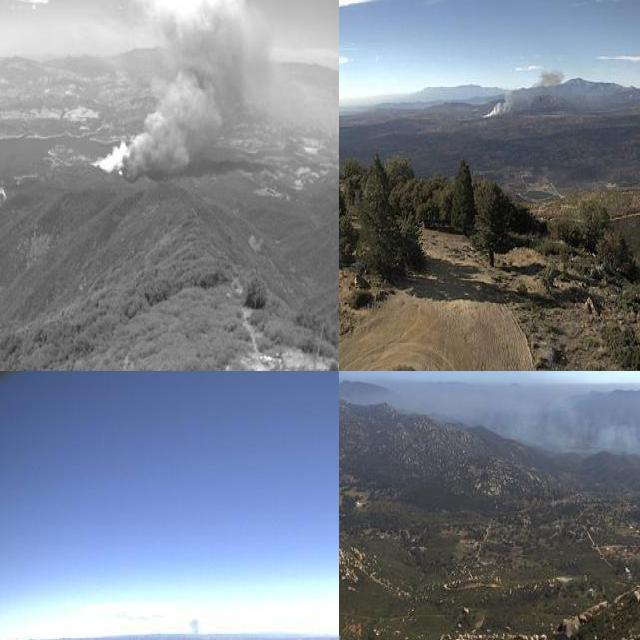smoke: (93, 0, 272, 177), (421, 380, 640, 458), (475, 64, 570, 122), (186, 615, 205, 640)
